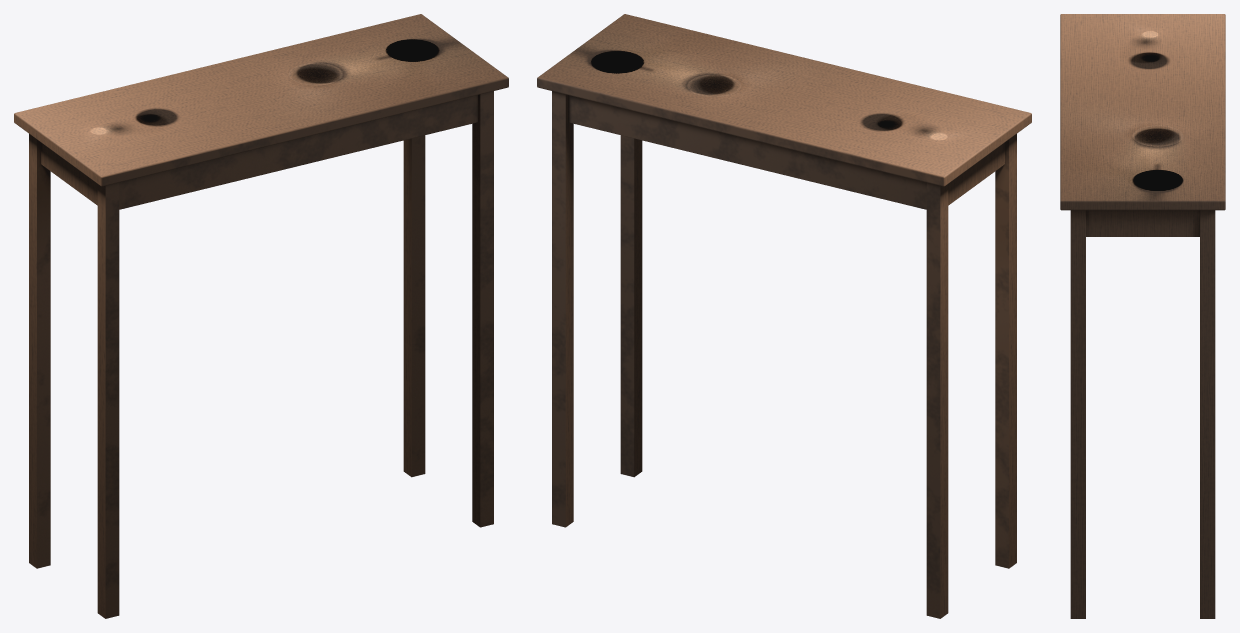
Rendered from 816_hook.glb.
3 renders of one model, left to right at view 1: azimuth 30°, elevation 25°; view 2: azimuth 150°, elevation 25°; view 3: azimuth 270°, elevation 25°, orthographic. The views are drawn at different scales.
Parts seen in each view (by area): view 1: Table; view 2: Table; view 3: Table.
Part boxes in pixels (x1=…): Table: x1=14, y1=14, x2=508, y2=618; Table: x1=537, y1=14, x2=1031, y2=618; Table: x1=1060, y1=14, x2=1225, y2=618.
Size of what is drawn, in the model's own units: 2.95 by 3.1 by 1.1.
1 material, 1 textured.
